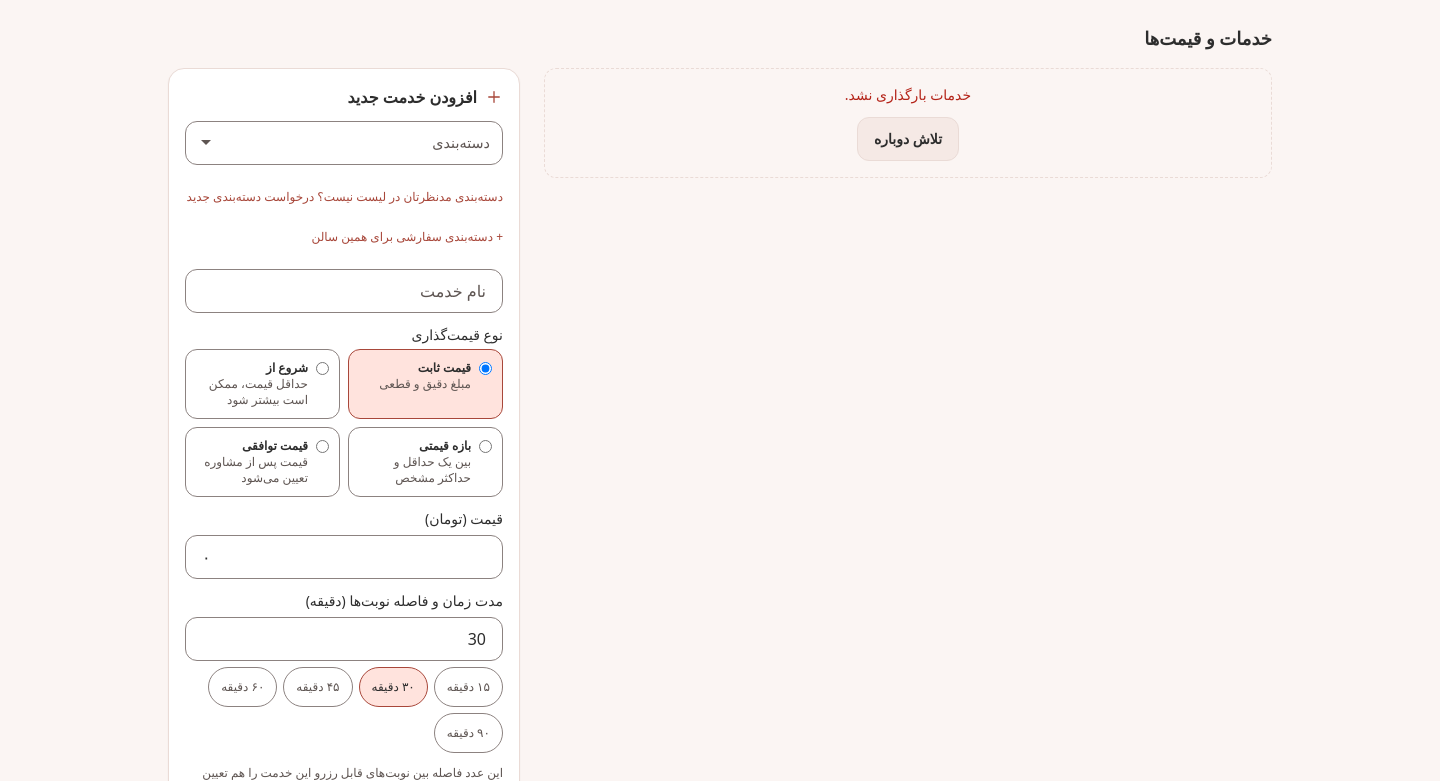
Test case: ServicesView › retries both fetches when the retry button is clicked after a load failure
Click the button with test id "retry-services" at x=908, y=139, box top-left (857, 117), bottom-right (959, 161)
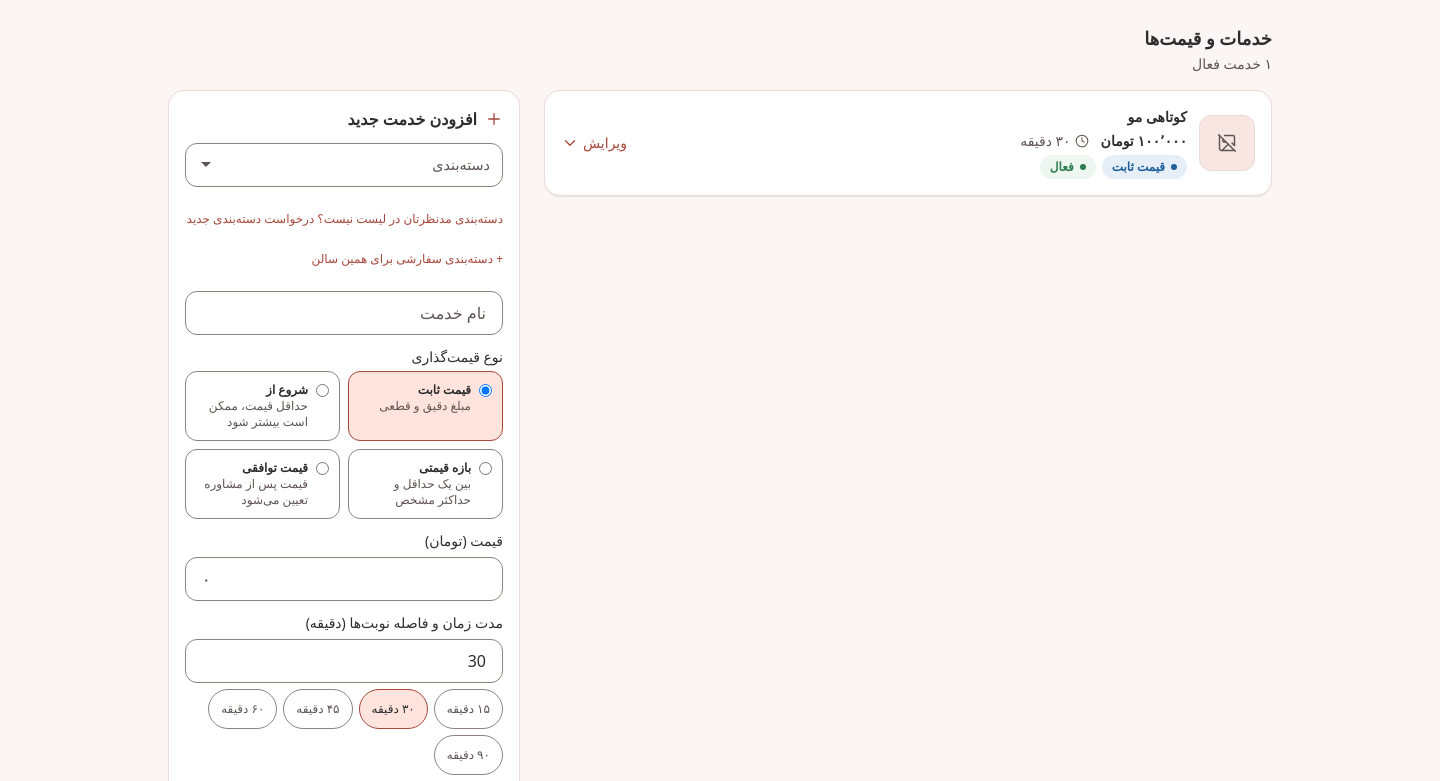
Expected: the text "کوتاهی مو" is shown, top-left (1128, 107), bottom-right (1187, 126)
